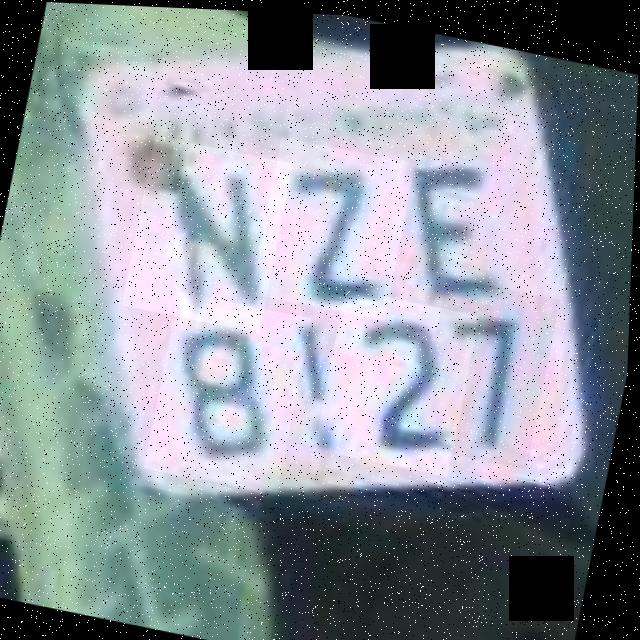2: (317, 285, 482, 473)
7: (417, 271, 563, 465)
8: (147, 289, 315, 493)
N: (124, 133, 295, 332)
Z: (253, 134, 417, 319)
